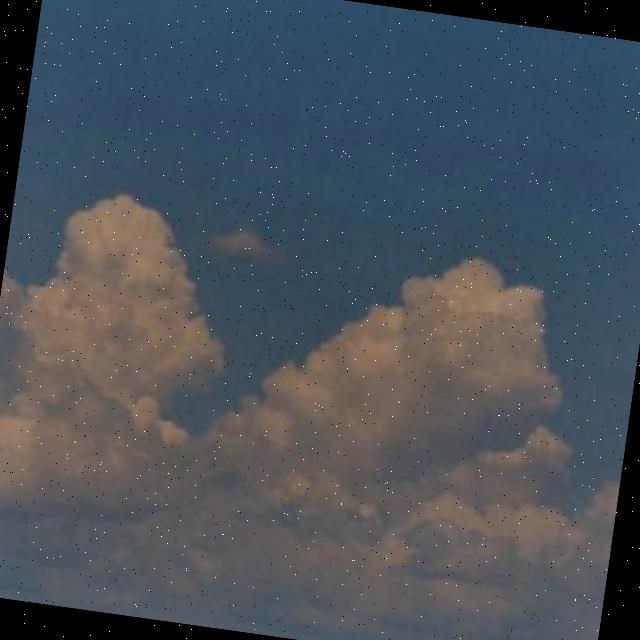Cs: (1, 77, 640, 640)
